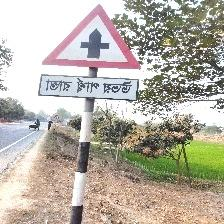Crossroad: (39, 3, 142, 105)
